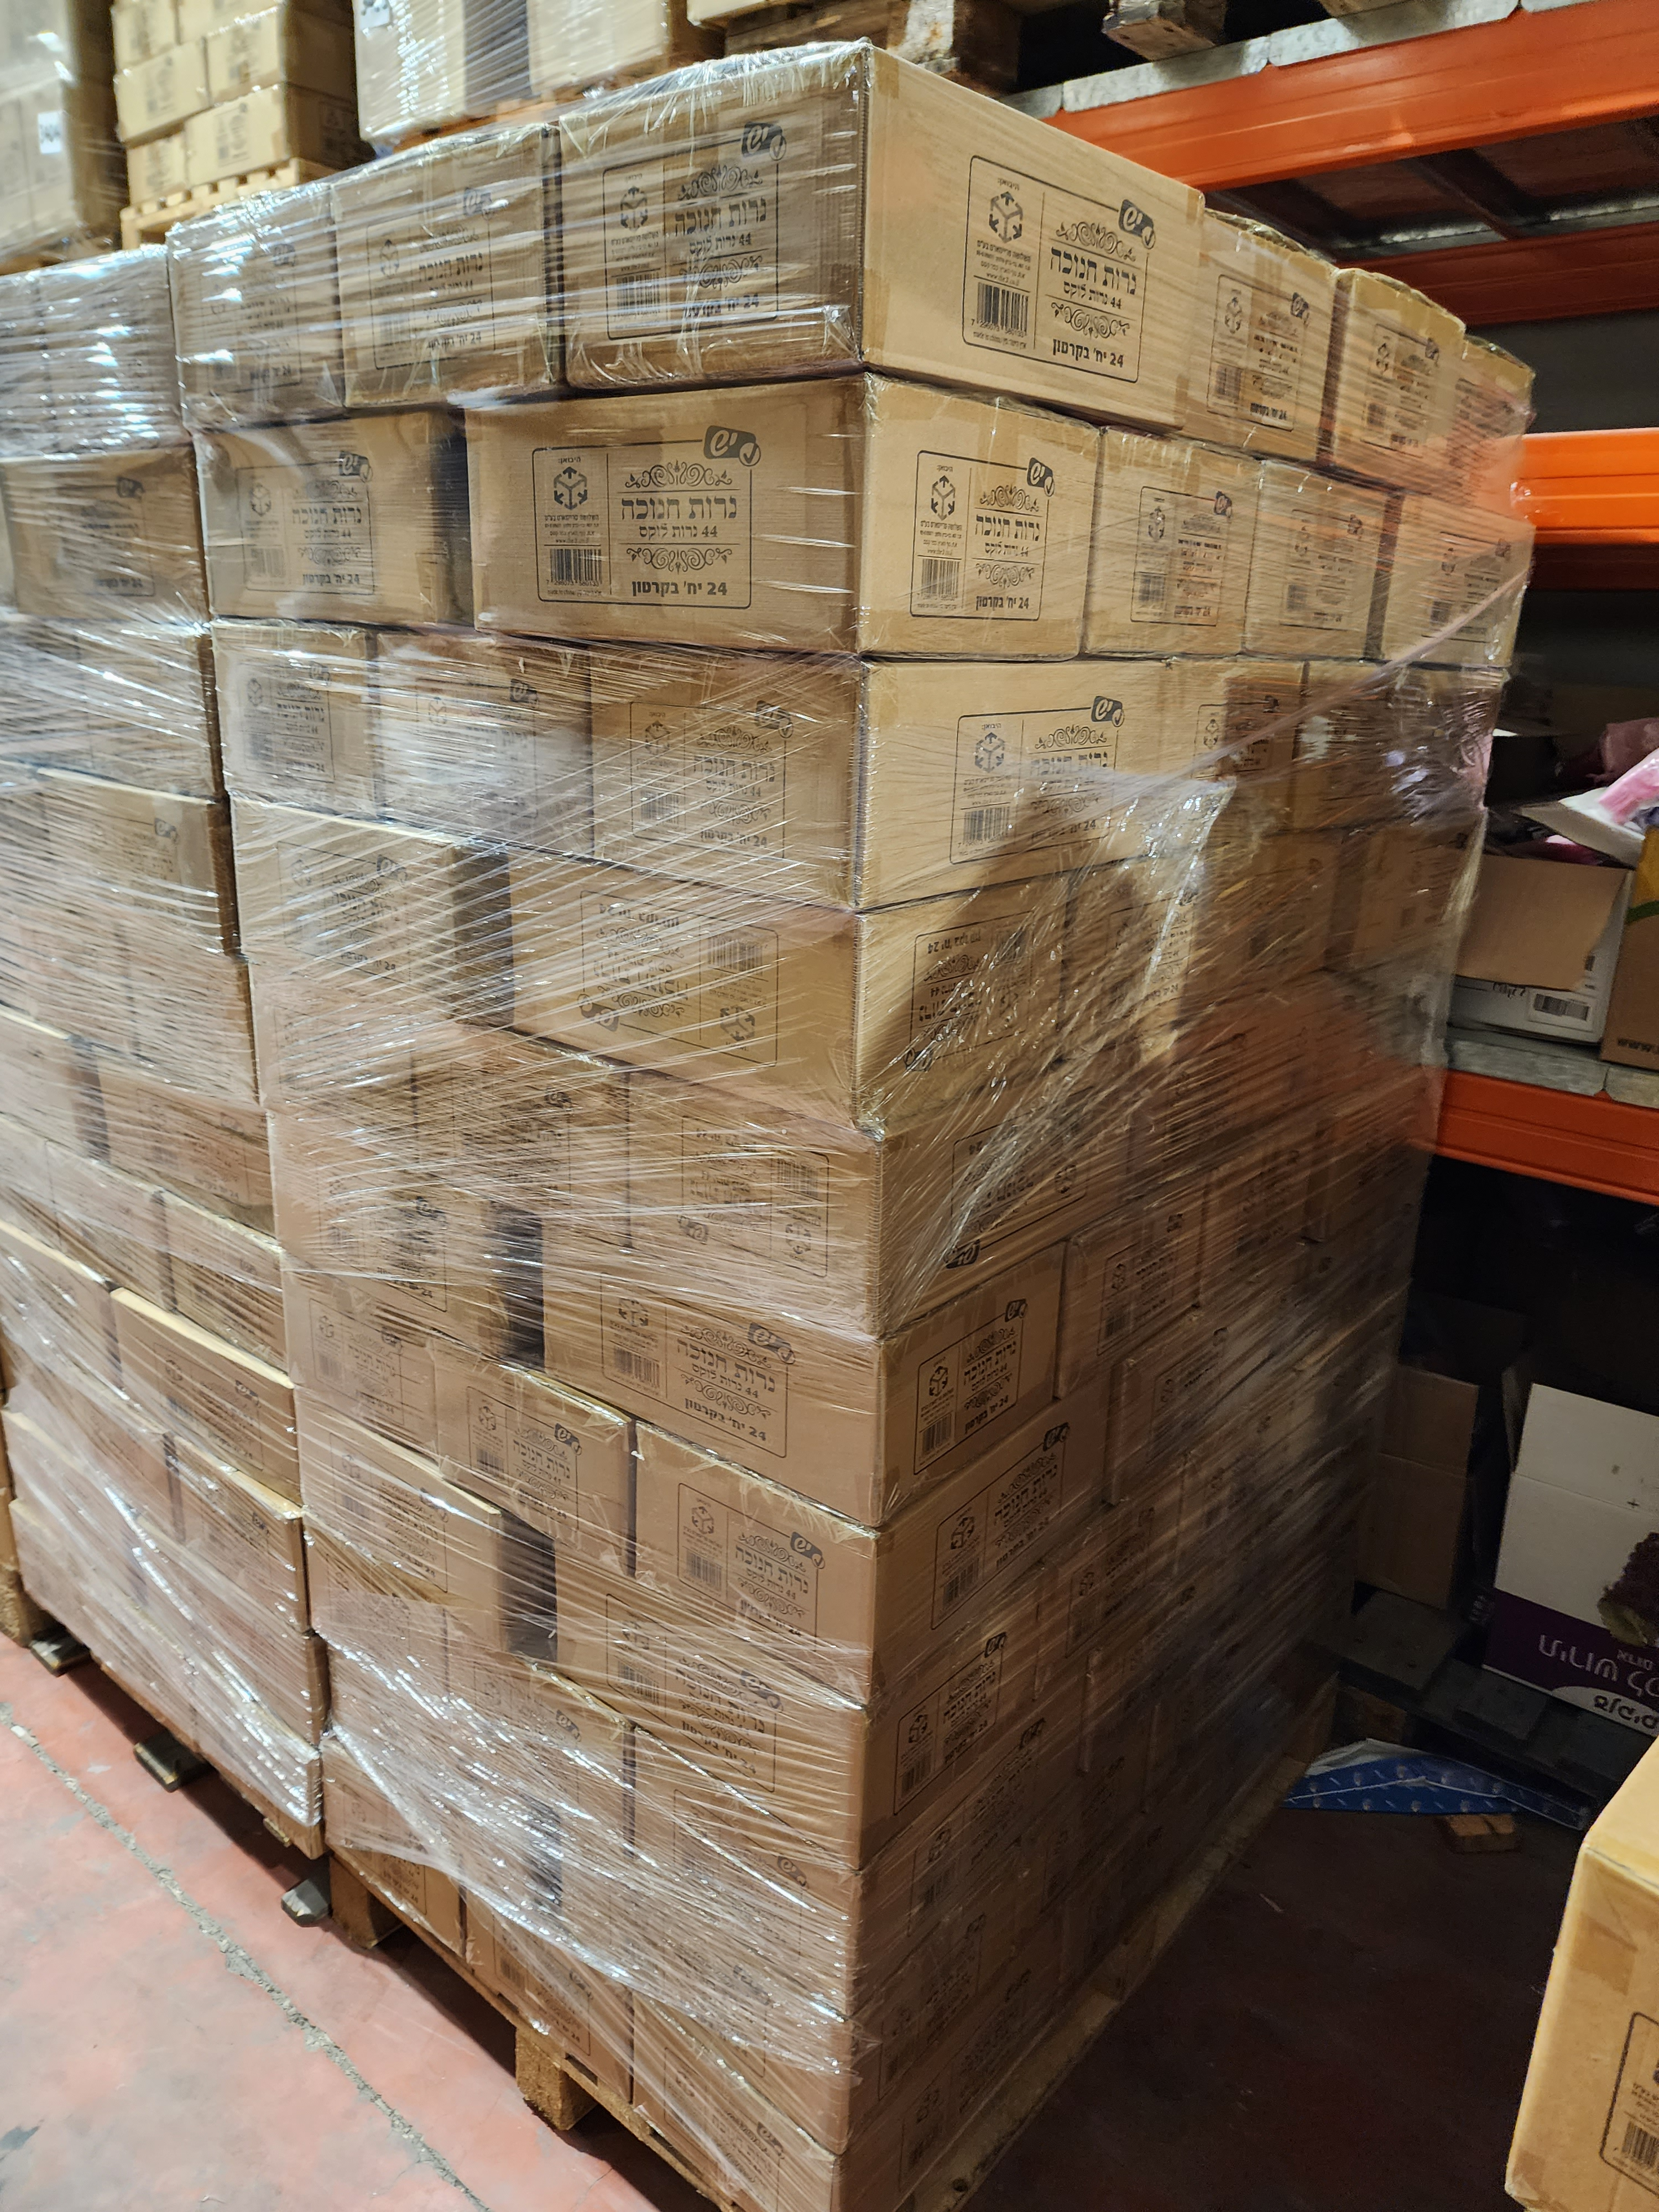box: (551, 87, 1215, 420), (577, 577, 1309, 874), (497, 803, 1082, 1139), (471, 383, 1105, 690), (547, 1526, 1154, 1841), (519, 1240, 1159, 1519), (528, 1066, 1140, 1327), (155, 158, 565, 442), (633, 1395, 1143, 1616), (272, 1369, 584, 1672), (63, 829, 235, 1285), (157, 416, 471, 660), (206, 794, 502, 1047), (1079, 820, 1375, 1038), (1185, 179, 1364, 491), (1091, 394, 1270, 702), (340, 657, 587, 866), (206, 611, 396, 829), (1345, 225, 1478, 514)
